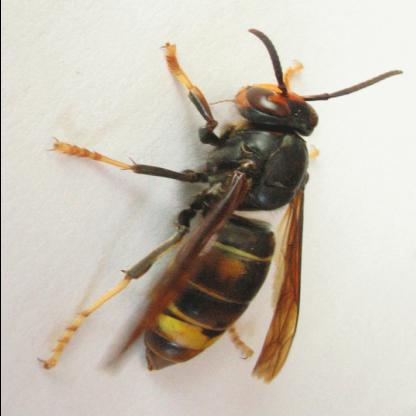asian: (33, 49, 381, 385)
